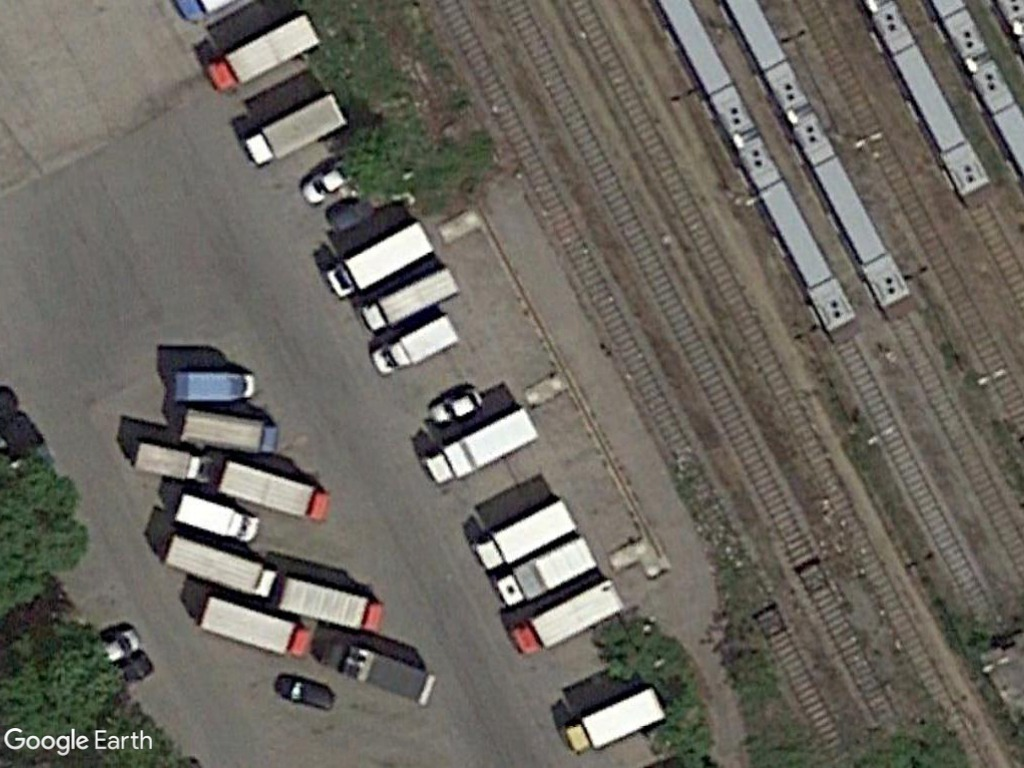car: (266, 670, 343, 715), (423, 382, 488, 431)
truck: (201, 5, 320, 99), (414, 398, 536, 488), (320, 213, 440, 301), (467, 491, 587, 579), (237, 84, 353, 170), (506, 576, 625, 659), (191, 591, 316, 670), (491, 527, 600, 612), (559, 676, 670, 757), (213, 457, 336, 526), (159, 531, 279, 601), (274, 570, 393, 639), (355, 262, 461, 336), (366, 310, 459, 382), (169, 485, 263, 546), (174, 404, 282, 457), (168, 360, 262, 407)
van: (124, 433, 219, 491)
